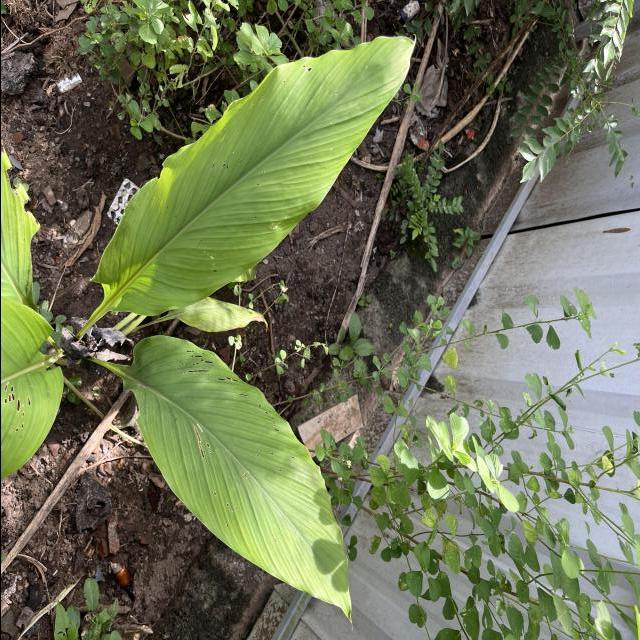Curcuma longa: (86, 33, 421, 319), (119, 329, 355, 638)
